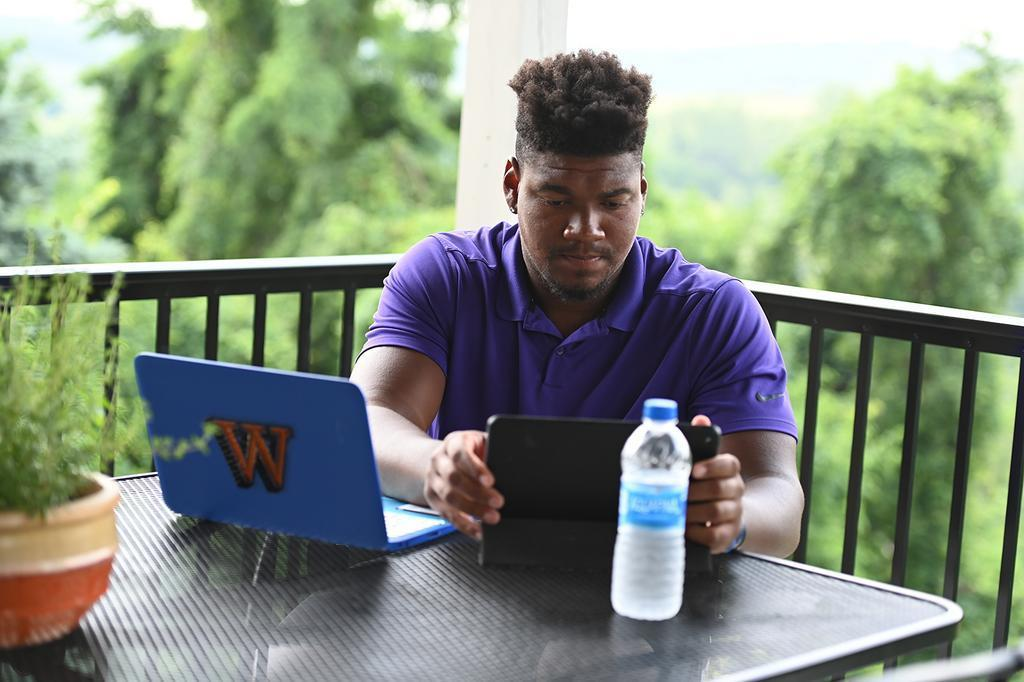bottle: (602, 383, 695, 637)
